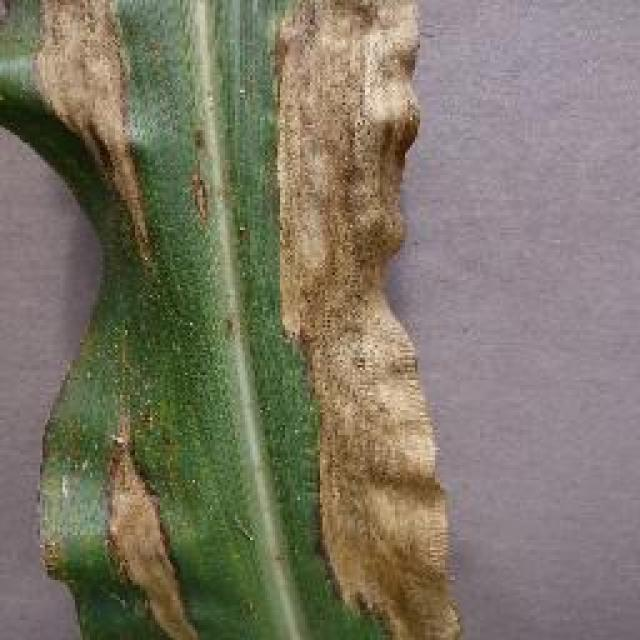Corn___Northern_Leaf_Blight: (0, 0, 498, 640)
